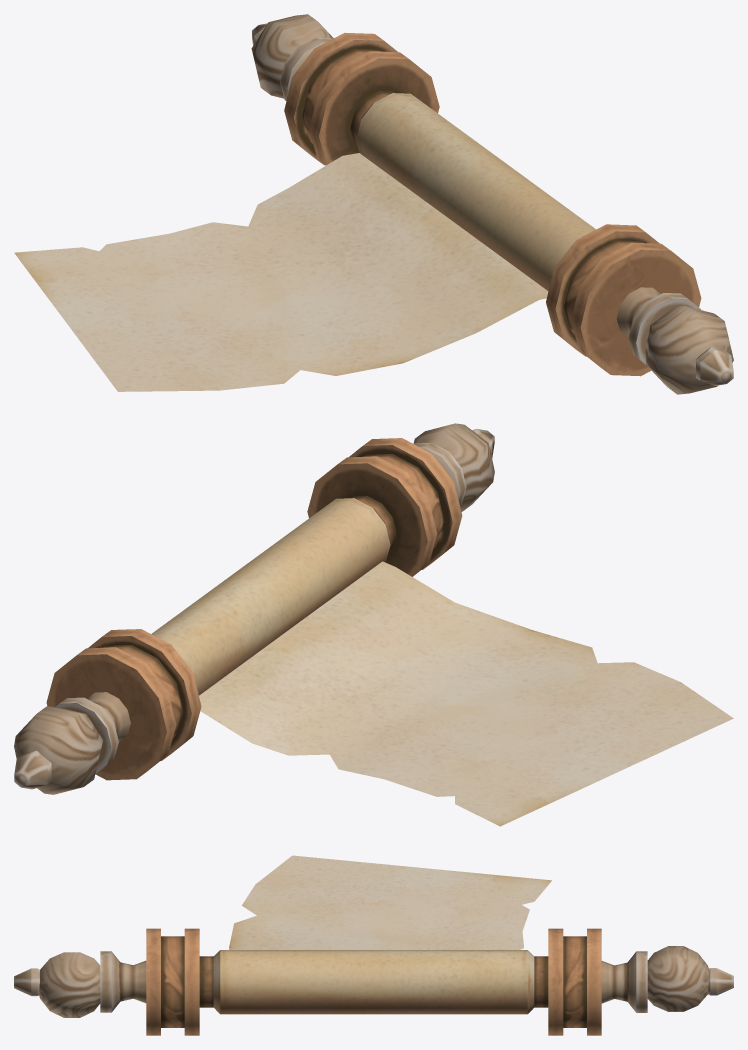
The model's file is SM_Scroll_Open_A.fbx.
The picture shows the model from 3 angles, top to bottom: view 1: azimuth 30°, elevation 25°; view 2: azimuth 150°, elevation 25°; view 3: azimuth 270°, elevation 25°; orthographic projection. The views are drawn at different scales.
Parts seen in each view (by area): view 1: SM_Scroll_Open_A_LOD0; view 2: SM_Scroll_Open_A_LOD0; view 3: SM_Scroll_Open_A_LOD0.
Part boxes in pixels (<box>): SM_Scroll_Open_A_LOD0: <box>14,14,733,394</box>; SM_Scroll_Open_A_LOD0: <box>14,423,733,826</box>; SM_Scroll_Open_A_LOD0: <box>14,855,733,1035</box>.
Size of the model in its own units: 33.98 by 56.44 by 8.41.
Materials: 1 (1 with a texture image).
